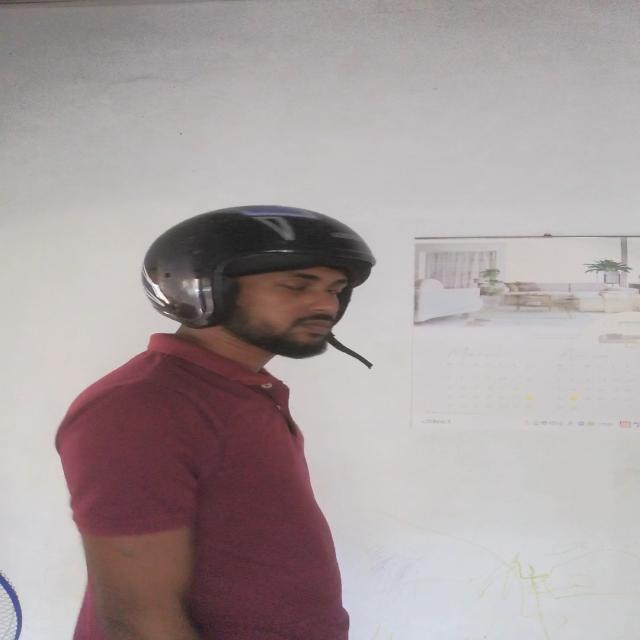Helmet_Wearer: (113, 186, 390, 403)
